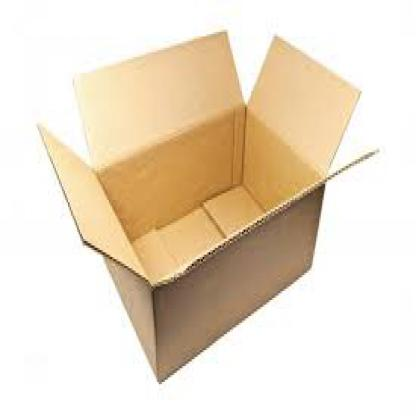CARDBOARD: (35, 27, 376, 382)
